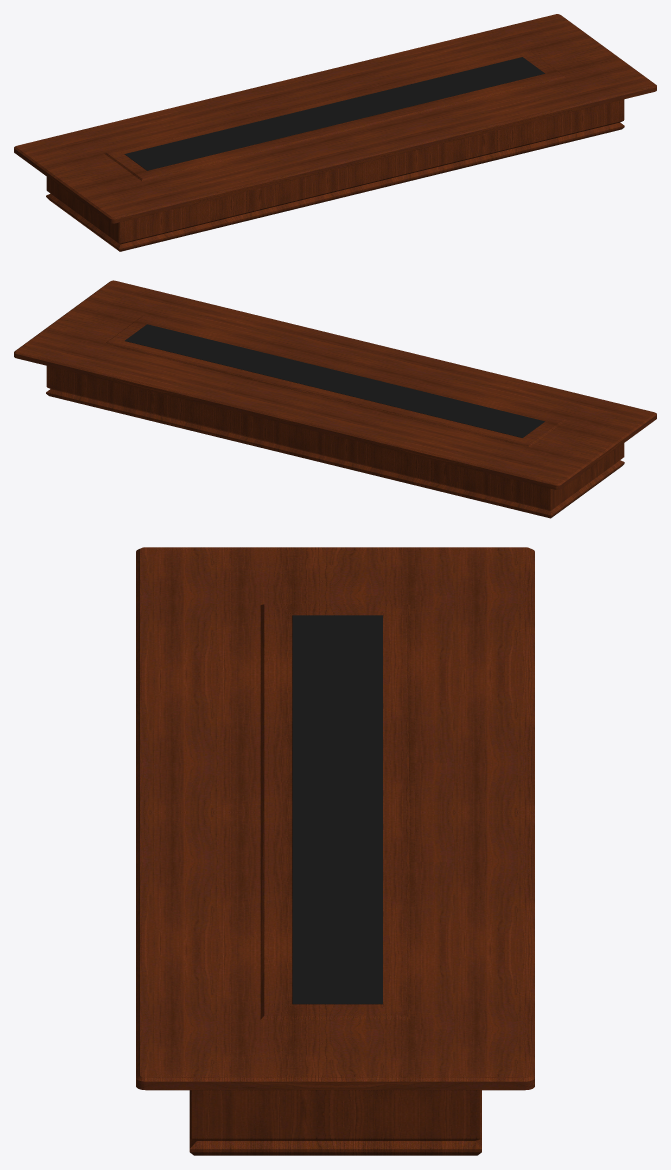
The model's file is meeting_table_fixed.glb.
3 renders of one model, top to bottom at view 1: azimuth 30°, elevation 25°; view 2: azimuth 150°, elevation 25°; view 3: azimuth 270°, elevation 25°, orthographic. The views are drawn at different scales.
Visible parts, largest first — view 1: Material2.012, Material2.011; view 2: Material2.012, Material2.011; view 3: Material2.012, Material2.011.
Boxes of the visible parts, x1,y1,x2,y2 form: Material2.012: (14, 14, 656, 251); Material2.011: (124, 57, 544, 170); Material2.012: (14, 280, 656, 518); Material2.011: (125, 324, 544, 437); Material2.012: (136, 547, 534, 1155); Material2.011: (292, 615, 382, 1004).
Size of what is drawn, in the model's own units: 172 by 15.24 by 54.35.
Materials: 2 (2 with a texture image).
